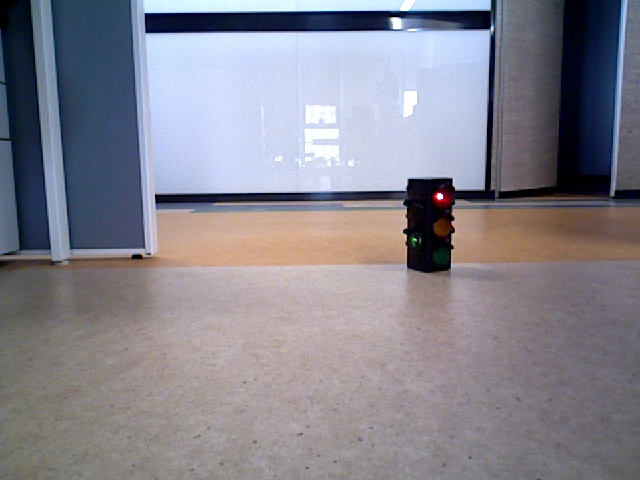red: (409, 181, 449, 266)
